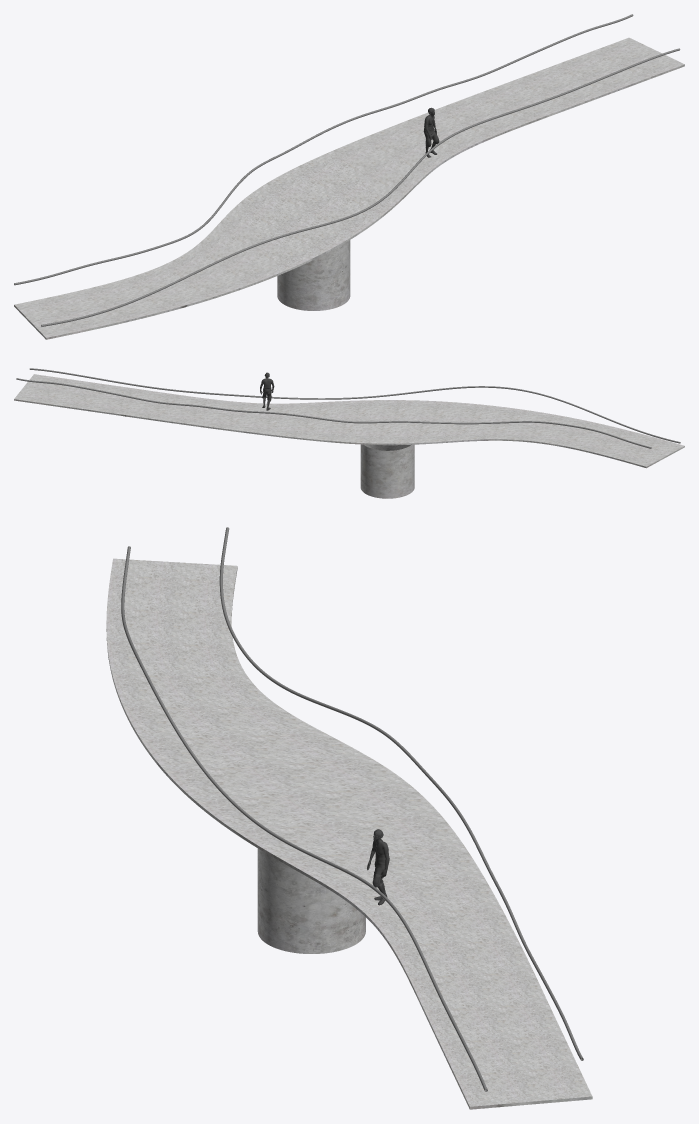
Rendered from bridge-03-base-01.glb.
3 views of the same model, one above another, from view 1: azimuth 30°, elevation 25°; view 2: azimuth 150°, elevation 25°; view 3: azimuth 270°, elevation 25° (orthographic). The views are drawn at different scales.
Parts seen in each view (by area): view 1: floor-01, handrail-02, base-01; view 2: floor-01, handrail-02, base-01, Tops; view 3: floor-01, base-01, handrail-02, Tops.
Part boxes in pixels (left/top/right/bottom): floor-01: left=14, top=37, right=684, bottom=339; handrail-02: left=14, top=14, right=680, bottom=326; base-01: left=277, top=240, right=350, bottom=310; floor-01: left=14, top=374, right=684, bottom=468; handrail-02: left=16, top=368, right=680, bottom=448; base-01: left=360, top=444, right=414, bottom=498; Tops: left=260, top=372, right=274, bottom=410; floor-01: left=106, top=558, right=592, bottom=1109; base-01: left=257, top=848, right=365, bottom=953; handrail-02: left=121, top=527, right=583, bottom=1091; Tops: left=367, top=829, right=389, bottom=905.
Size of the model in its own units: 60.27 by 10.39 by 22.58.
3 materials, 1 textured.
